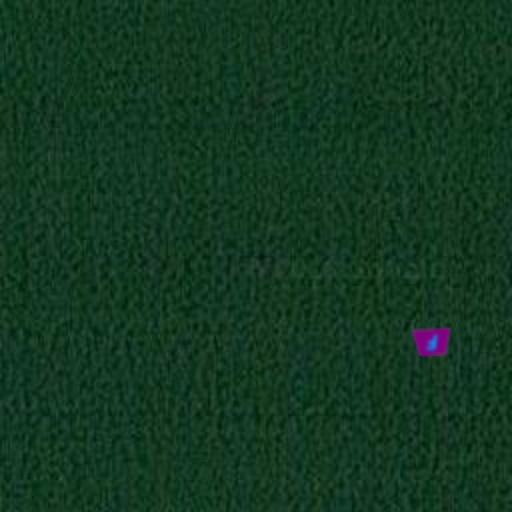trapezoid: (410, 320, 454, 364)
